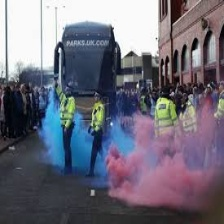smoke: (119, 131, 211, 195), (44, 113, 116, 178)
